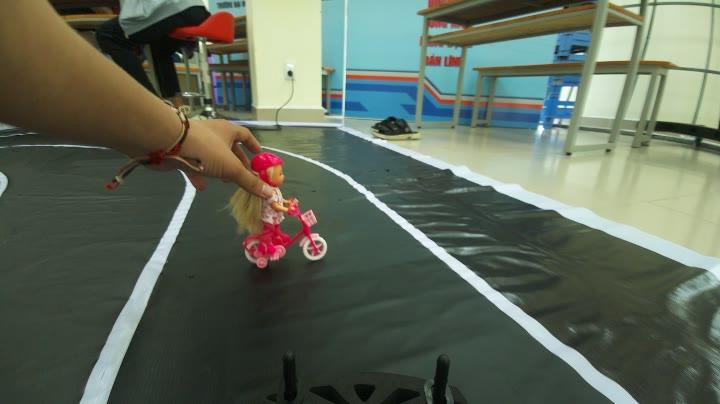pedestrian: (226, 146, 342, 262)
